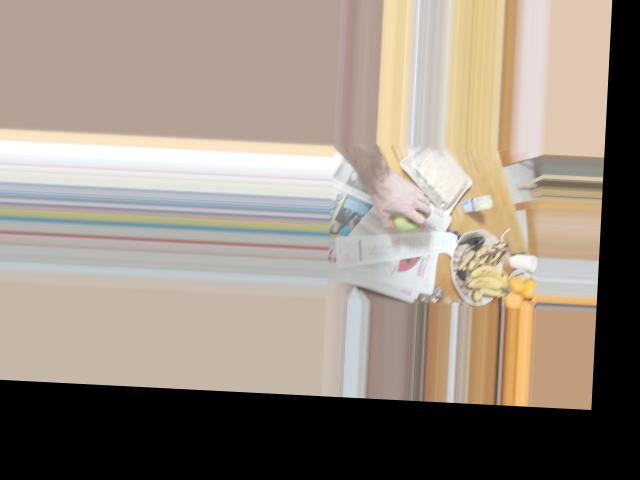apple: (385, 193, 426, 231)
